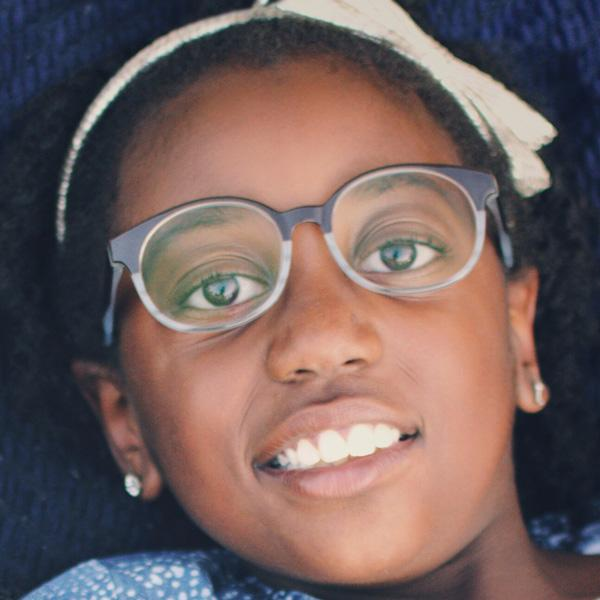Eyes: (163, 242, 278, 340), (348, 214, 451, 301)
